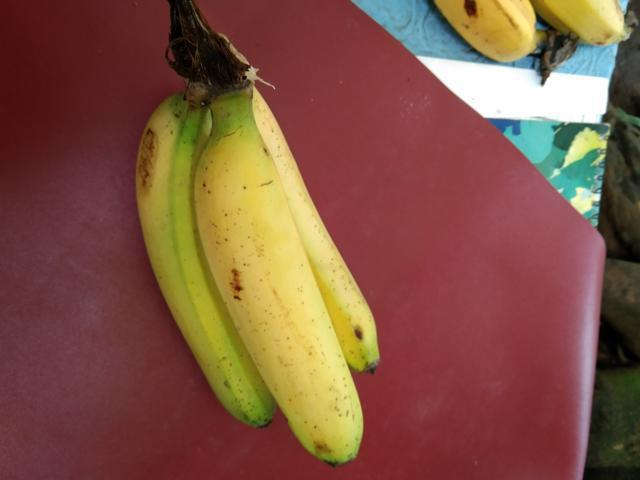freshripe: (127, 91, 262, 429)
ripe: (191, 131, 377, 475)
